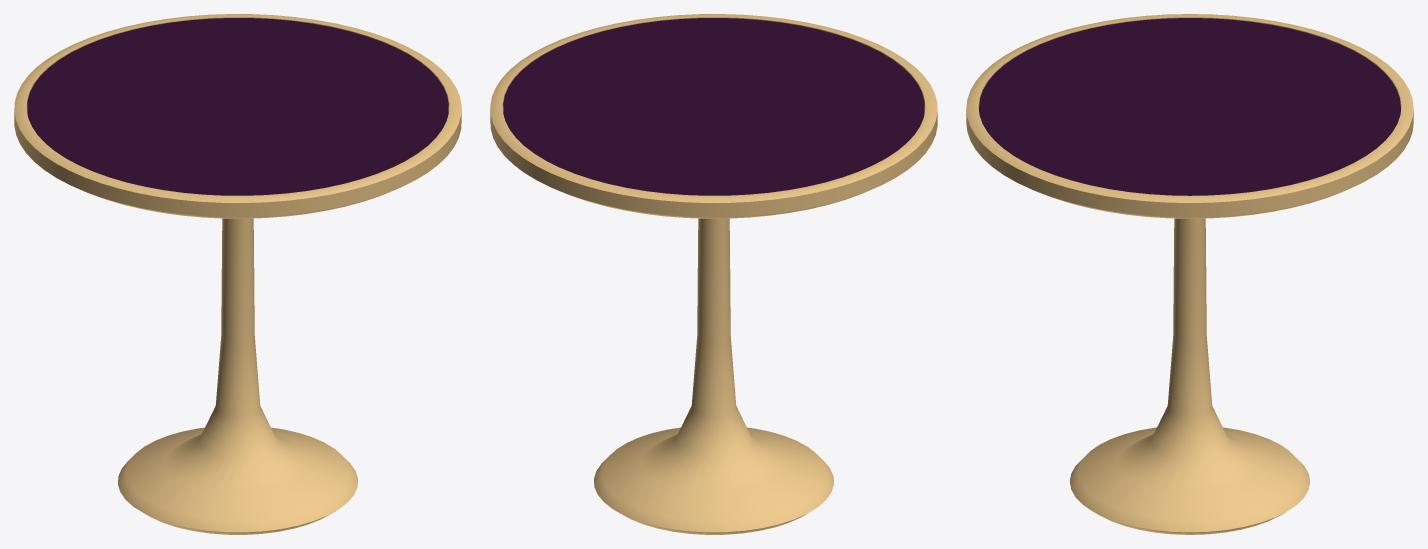
The model's file is KIT_Mesa_Lounge.glb.
3 renders of one model, left to right at view 1: azimuth 30°, elevation 25°; view 2: azimuth 150°, elevation 25°; view 3: azimuth 270°, elevation 25°, orthographic.
Visible parts, largest first — view 1: KIT_Mesa_Lounge; view 2: KIT_Mesa_Lounge; view 3: KIT_Mesa_Lounge.
Boxes of the visible parts, x1,y1,x2,y2 form: KIT_Mesa_Lounge: [14, 14, 461, 534]; KIT_Mesa_Lounge: [490, 14, 937, 534]; KIT_Mesa_Lounge: [966, 14, 1413, 534].
Size of the model in its own units: 0.8 by 0.752 by 0.8.
